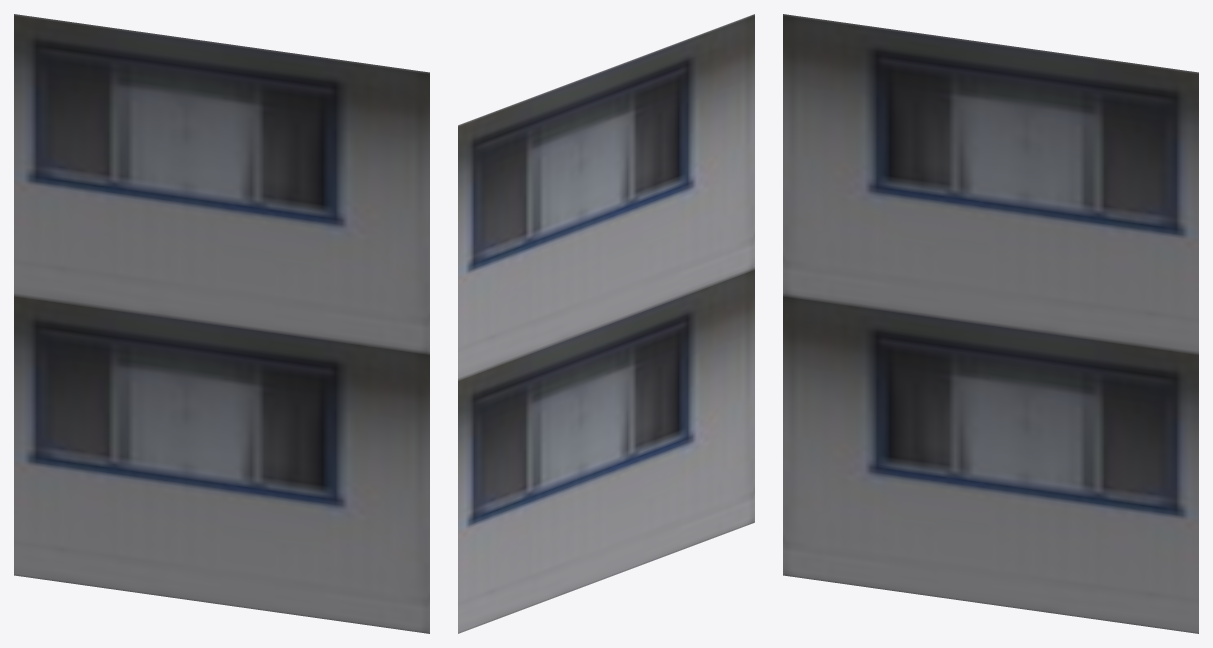
File: ResTex__4669.fbx
3 renders of one model, left to right at view 1: azimuth 90°, elevation 25°; view 2: azimuth 150°, elevation 25°; view 3: azimuth 270°, elevation 25°, orthographic. The views are drawn at different scales.
Visible parts, largest first — view 1: CityEngineMaterial_9_m; view 2: CityEngineMaterial_9_m; view 3: CityEngineMaterial_9_m.
Part boxes in pixels (box(x1,y1,x2,y2)): CityEngineMaterial_9_m: box(14, 14, 429, 633); CityEngineMaterial_9_m: box(458, 14, 754, 633); CityEngineMaterial_9_m: box(783, 14, 1198, 633).
Bounding box in the file's own units: 1.34 × 6 × 4.03.
Materials: 1 (1 with a texture image).
